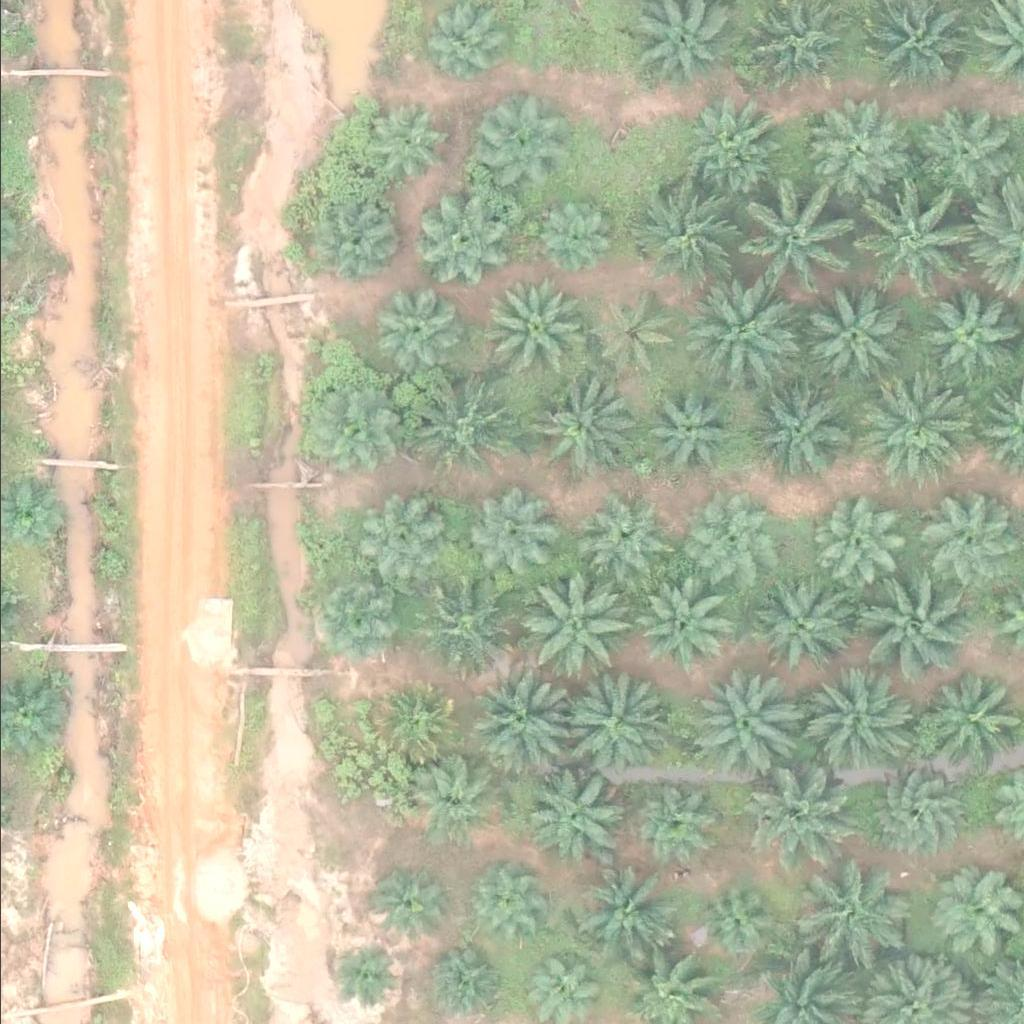Kelapa_Sawit: (690, 661, 804, 774), (464, 666, 577, 779), (560, 658, 673, 771), (852, 371, 965, 484), (795, 281, 908, 394), (794, 664, 908, 776), (517, 566, 631, 678), (750, 758, 863, 870), (856, 562, 969, 674), (395, 366, 508, 478), (679, 279, 792, 391), (844, 182, 957, 294), (726, 182, 839, 294), (628, 177, 741, 289), (567, 855, 668, 955), (795, 855, 896, 955), (519, 765, 620, 865), (919, 668, 1020, 768), (751, 571, 852, 671), (414, 573, 515, 673), (914, 492, 1015, 592), (521, 375, 622, 475), (914, 288, 1015, 388), (481, 279, 582, 379), (464, 90, 565, 190), (804, 105, 905, 205), (685, 92, 786, 192), (862, 760, 962, 860), (295, 384, 395, 484), (415, 188, 515, 288), (912, 109, 1012, 209), (746, 382, 847, 481), (369, 673, 457, 761), (691, 876, 779, 964), (631, 583, 719, 671), (463, 485, 551, 573), (319, 199, 407, 287), (355, 496, 444, 583), (587, 294, 676, 381), (622, 781, 710, 868), (402, 758, 490, 845), (310, 574, 398, 661), (585, 486, 673, 573), (697, 495, 785, 582), (812, 498, 900, 585), (646, 389, 734, 476), (525, 193, 613, 280), (366, 291, 454, 378), (365, 99, 453, 186), (517, 947, 593, 1022), (463, 867, 538, 942), (363, 865, 438, 940), (334, 938, 397, 1001)
